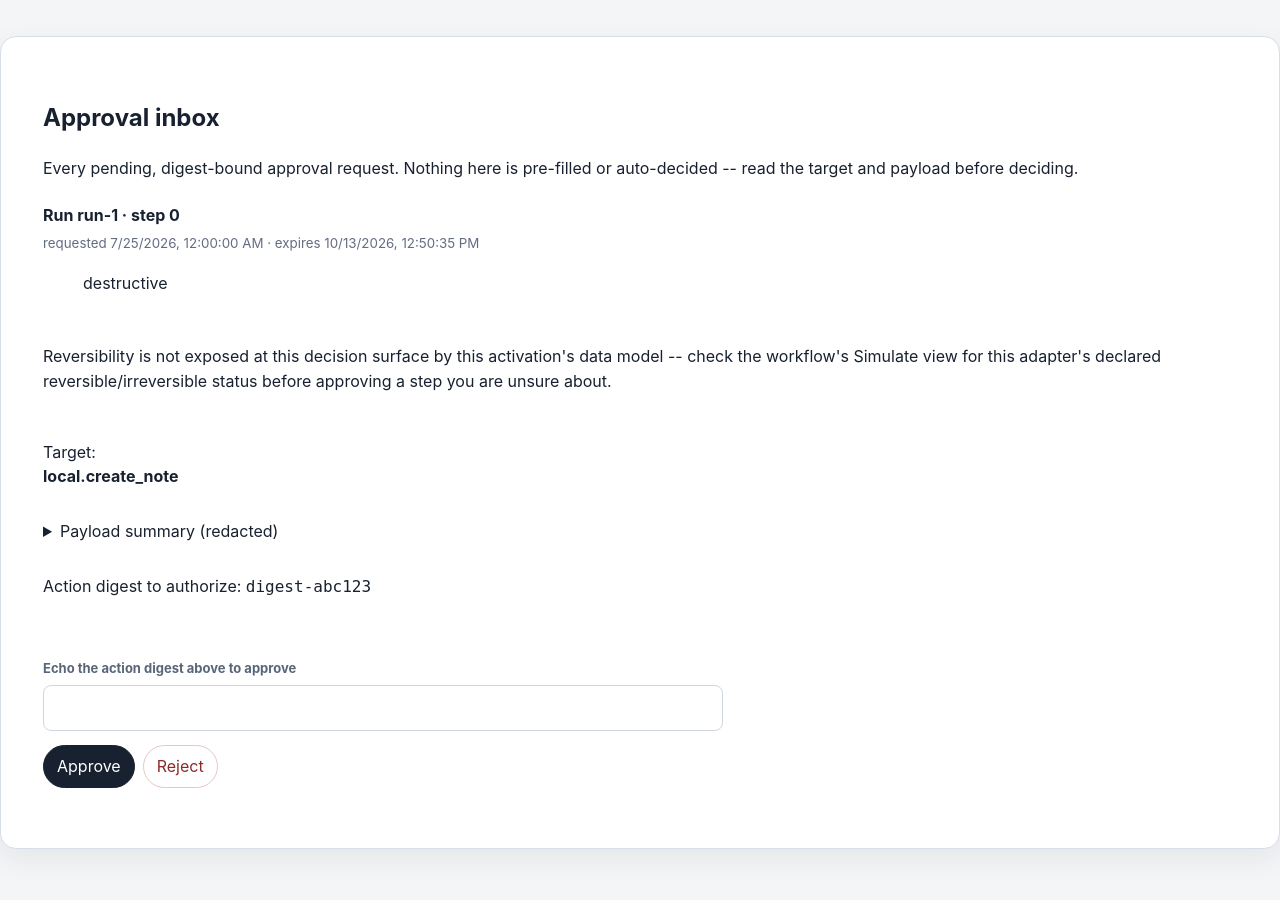
Test: ApprovalInbox › shows the target, payload summary, high-impact category and expiry before any decision is reachable
Expected: the text "Run run-1 · step 0" is shown, [43, 205, 180, 225]
Expected: the list item "destructive" is shown, [83, 273, 168, 293]
Click the heading "Payload summary (redacted)" at (169, 531), box [60, 521, 278, 541]
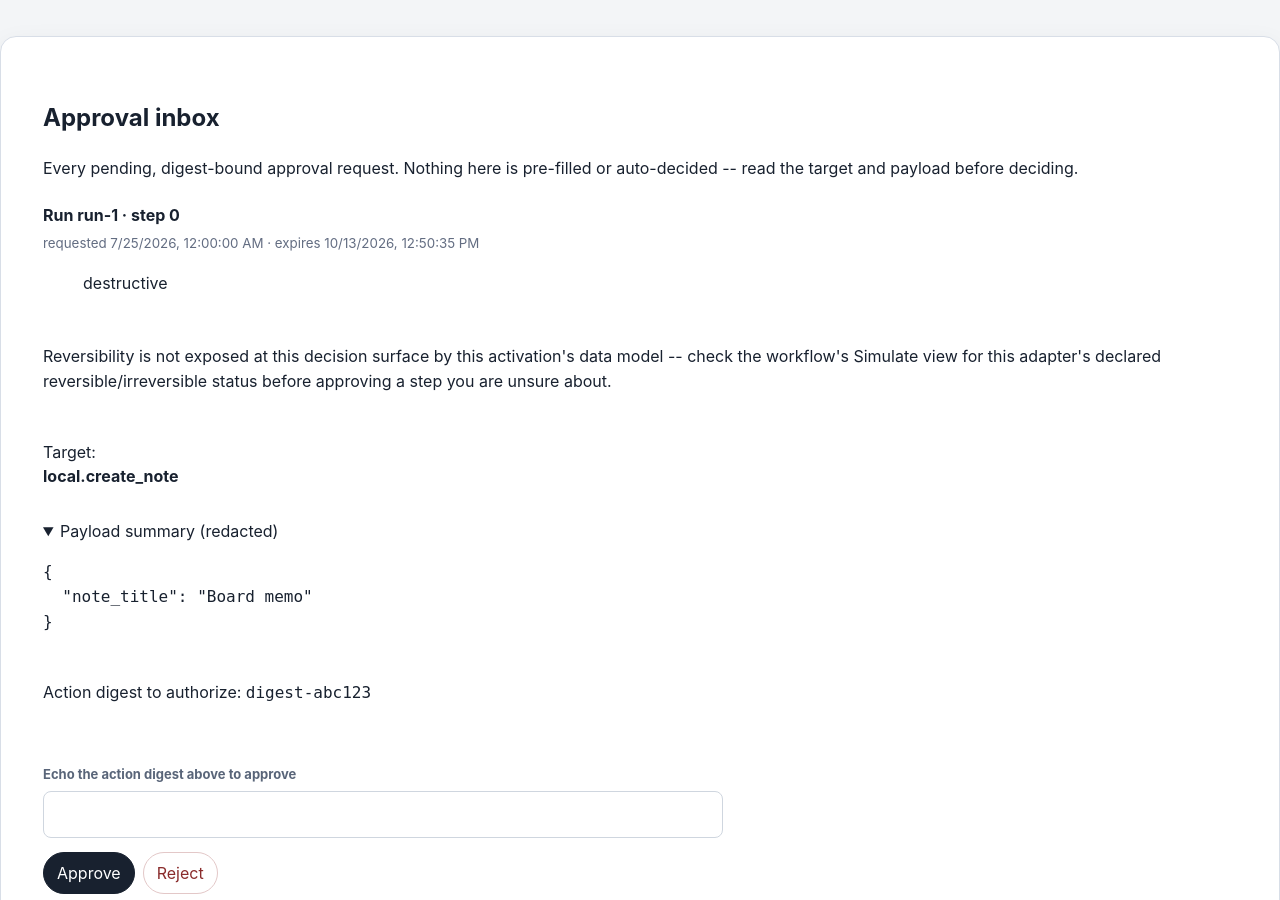
Expected: the text "digest-abc123" is shown, [246, 683, 371, 702]
Result: the text "{ \"note_title\": \"Board memo\" }" is shown at [43, 562, 313, 631]
